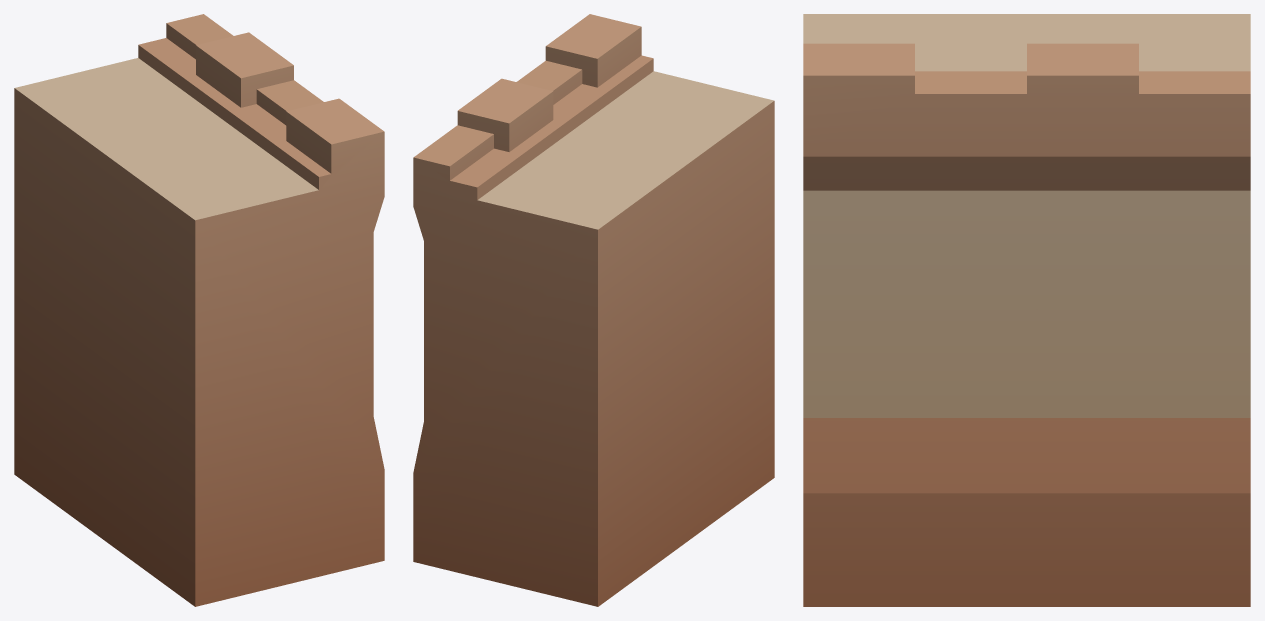
The model's file is wall-half-modular.glb.
3 views of the same model, side by side, from view 1: azimuth 30°, elevation 25°; view 2: azimuth 150°, elevation 25°; view 3: azimuth 270°, elevation 25° (orthographic). The views are drawn at different scales.
Visible parts, largest first — view 1: wall-half-modular; view 2: wall-half-modular; view 3: wall-half-modular.
Part boxes in pixels (x1,y1,x2,y2): wall-half-modular: [14, 14, 384, 606]; wall-half-modular: [413, 14, 774, 606]; wall-half-modular: [803, 14, 1250, 606].
Size of the model in its own units: 0.6046 by 1.31 by 1.
